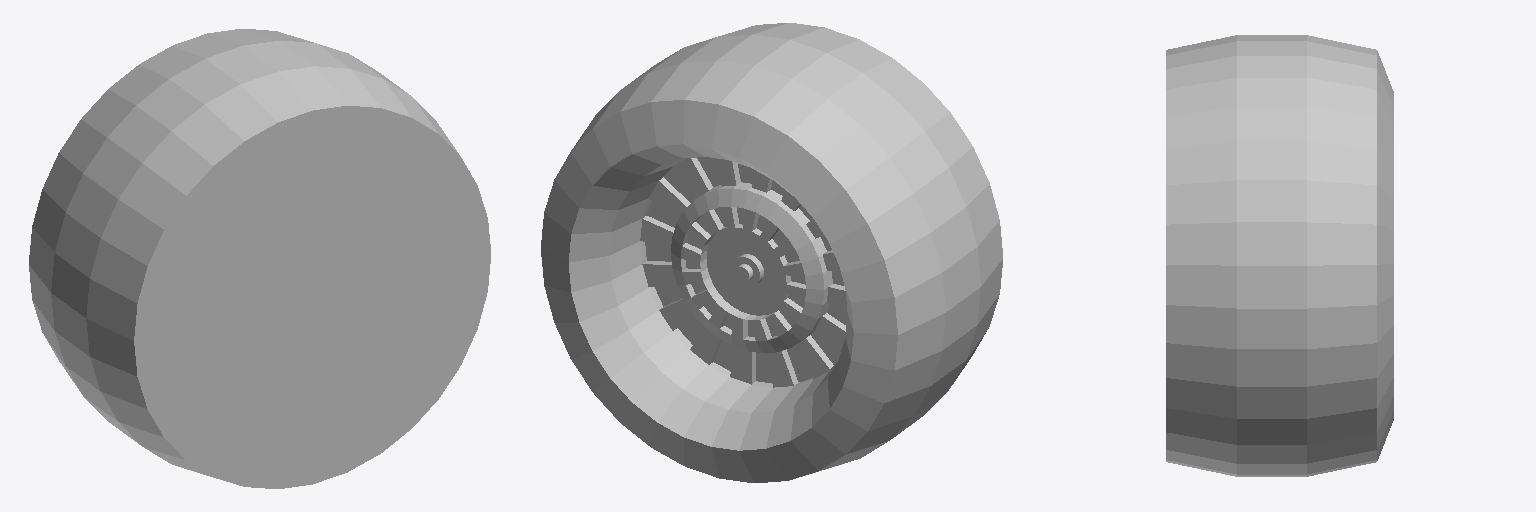
Rendered from WFR-2.obj.
3 views of the same model, side by side, from view 1: azimuth 30°, elevation 25°; view 2: azimuth 150°, elevation 25°; view 3: azimuth 270°, elevation 25° (orthographic).
Parts seen in each view (by area): view 1: f_wheel.001; view 2: f_wheel.001; view 3: f_wheel.001.
Boxes of the visible parts, x1,y1,x2,y2 form: f_wheel.001: [29, 29, 490, 488]; f_wheel.001: [541, 23, 1002, 482]; f_wheel.001: [1166, 35, 1393, 476].
Size of the model in its own units: 1.13 by 1.13 by 0.5821.